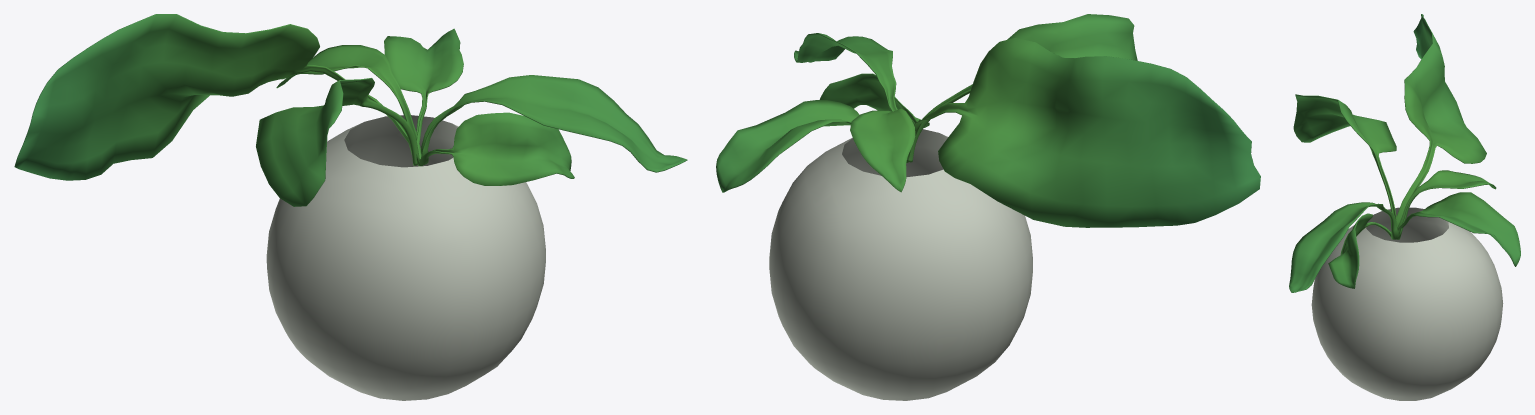
The model's file is Rastenie2.fbx.
The picture shows the model from 3 angles, left to right: view 1: azimuth 30°, elevation 25°; view 2: azimuth 150°, elevation 25°; view 3: azimuth 270°, elevation 25°; orthographic projection. The views are drawn at different scales.
Parts seen in each view (by area): view 1: Cube.019; view 2: Cube.019; view 3: Cube.019.
Part boxes in pixels (x1=…): Cube.019: x1=14, y1=14, x2=687, y2=400; Cube.019: x1=716, y1=14, x2=1260, y2=400; Cube.019: x1=1289, y1=14, x2=1520, y2=400.
Size of the model in its own units: 0.3931 by 0.201 by 0.262.
